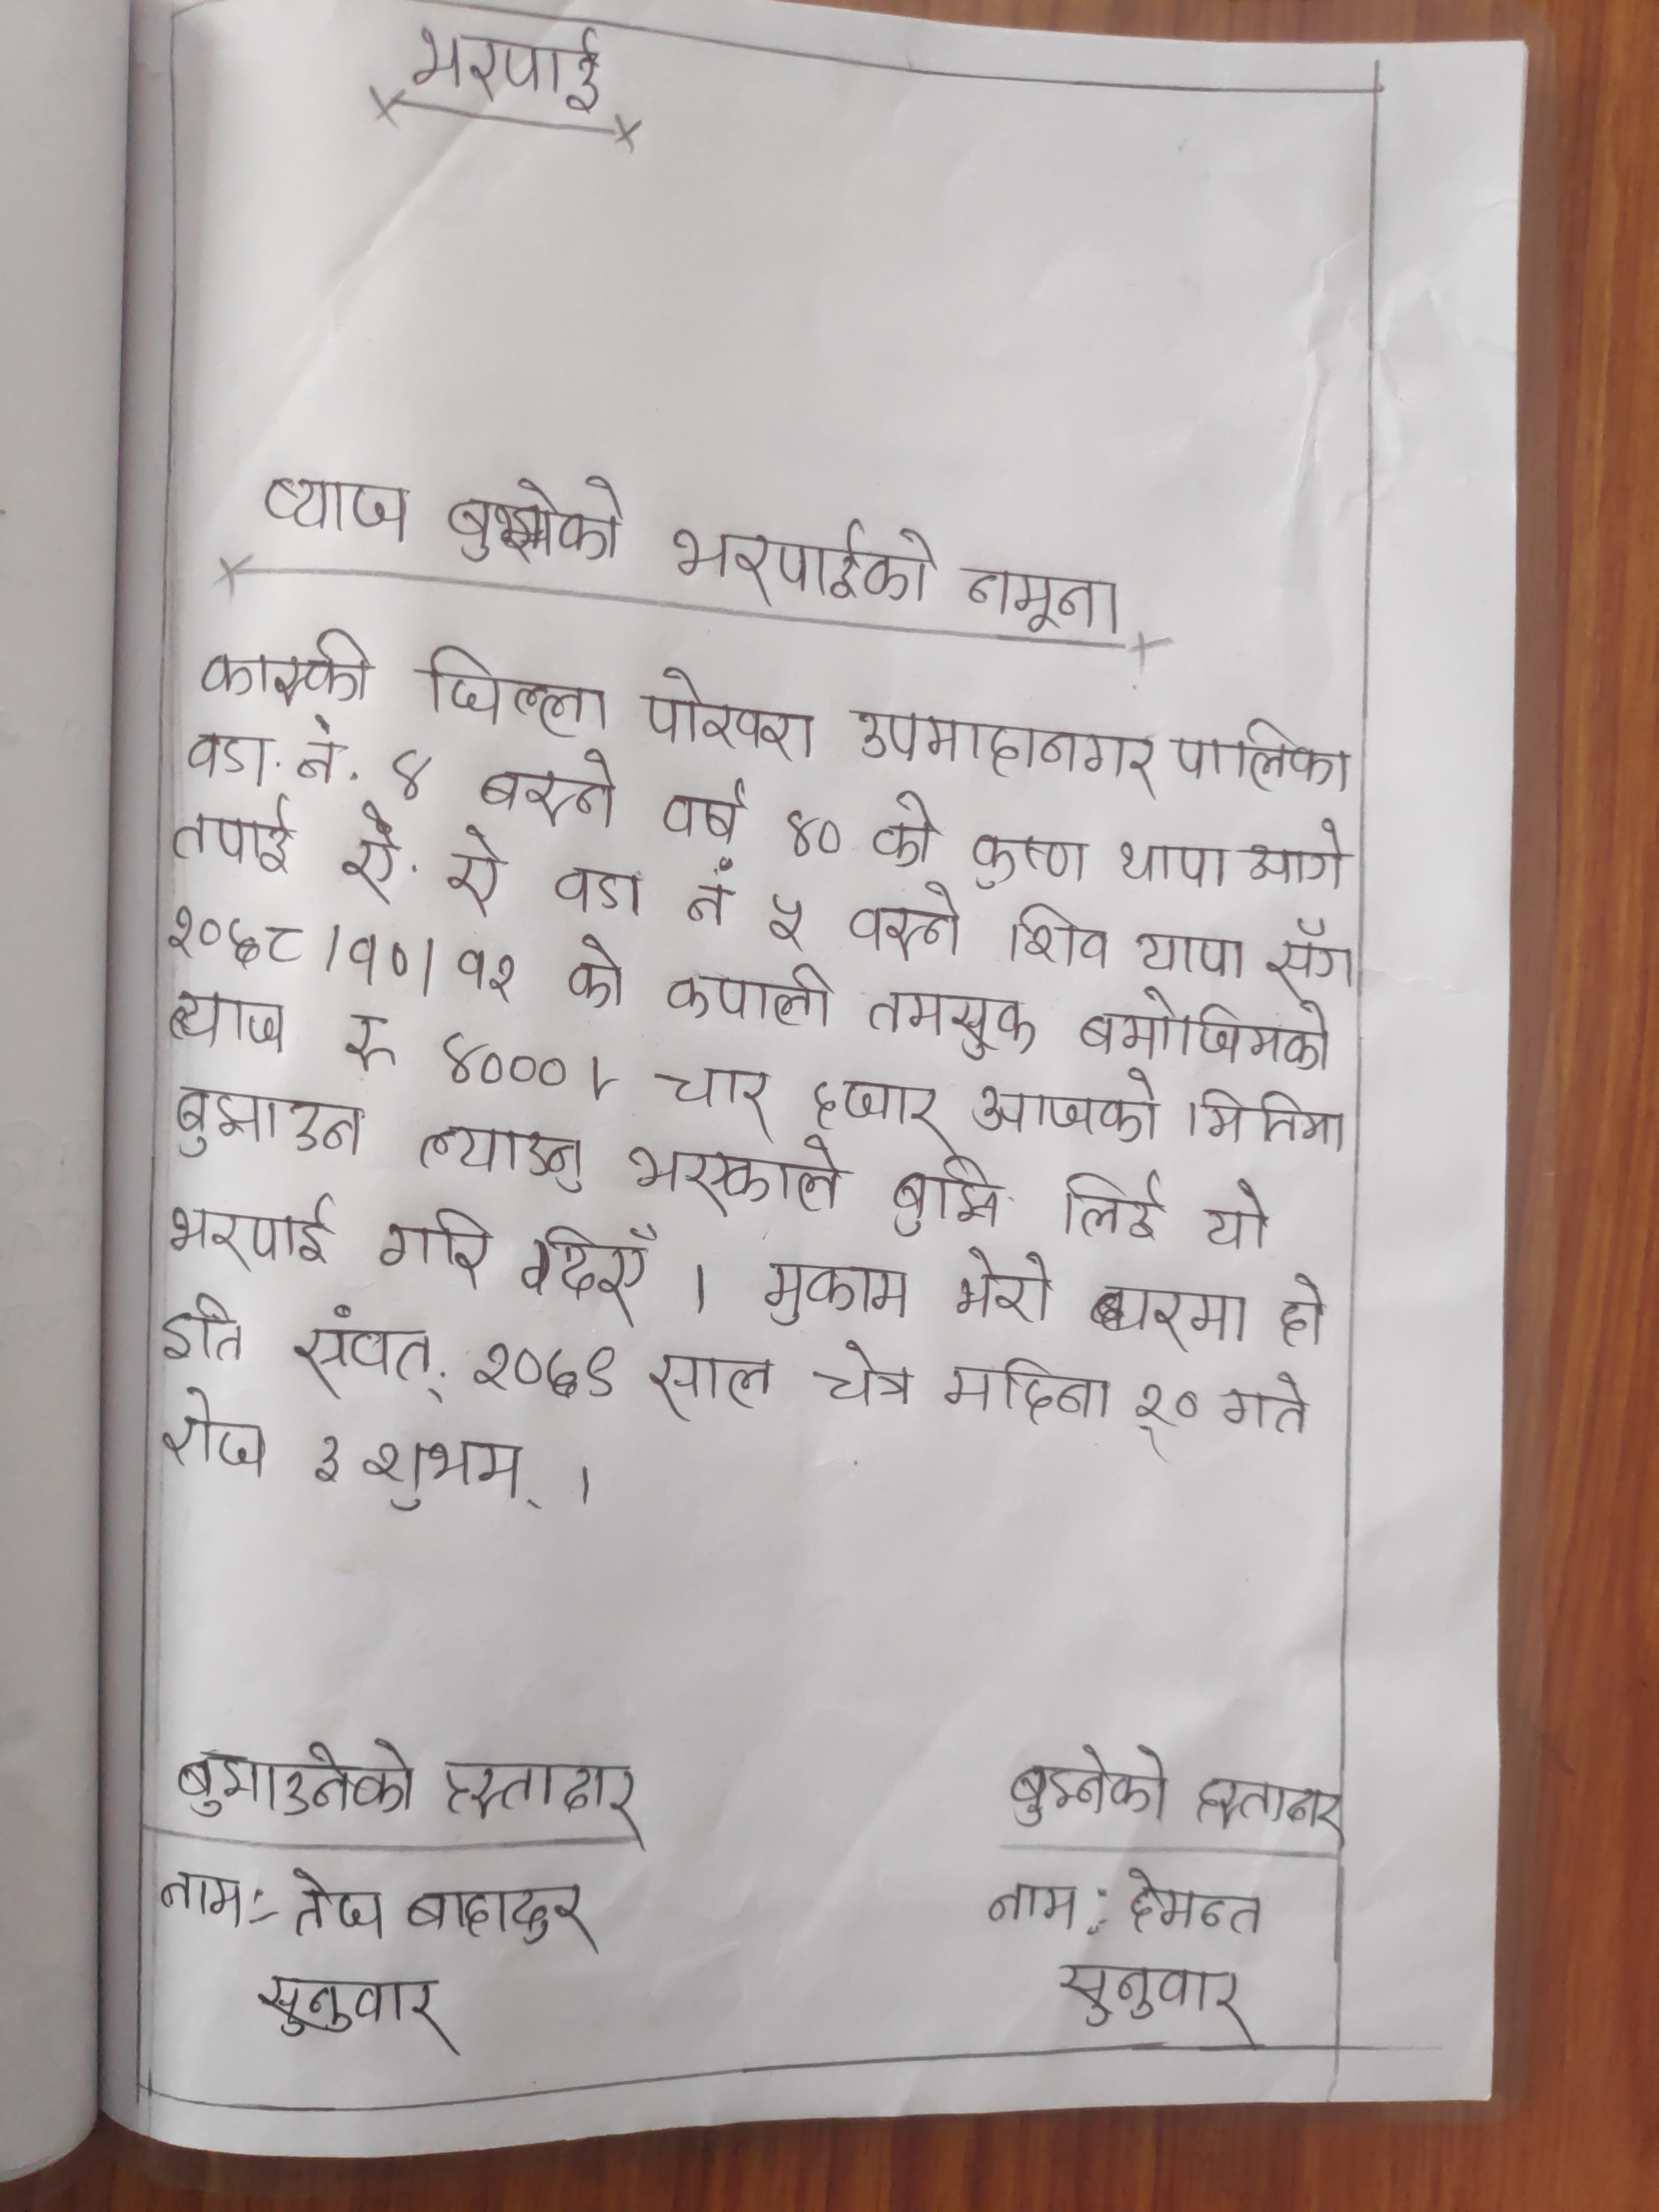text: (162, 907, 525, 998), (854, 702, 1162, 798), (662, 519, 936, 610), (1077, 981, 1333, 1071), (169, 1737, 416, 1824), (331, 803, 512, 920), (636, 664, 824, 773), (258, 1959, 453, 2062), (404, 23, 610, 117), (415, 643, 620, 737), (441, 475, 626, 577), (626, 1129, 849, 1212), (1053, 1954, 1265, 2038), (157, 1082, 371, 1163), (967, 1066, 1169, 1150), (406, 1113, 592, 1200), (361, 1433, 549, 1519), (1166, 714, 1358, 798), (293, 1303, 443, 1407), (861, 977, 1040, 1064), (192, 627, 371, 712), (1004, 1742, 1173, 1831), (164, 1190, 342, 1271), (441, 1759, 633, 1832), (939, 1350, 1115, 1428), (659, 954, 833, 1029), (260, 470, 415, 552), (1115, 1862, 1276, 1940), (1087, 1271, 1249, 1348), (477, 747, 622, 833), (1178, 1082, 1351, 1151), (760, 1251, 913, 1329), (965, 566, 1131, 637), (401, 1888, 599, 1947), (547, 1211, 652, 1322), (153, 1388, 274, 1484), (471, 1334, 626, 1406), (164, 796, 298, 878), (366, 1209, 497, 1291), (945, 1237, 1061, 1327), (882, 1151, 1004, 1235), (652, 1061, 786, 1136), (648, 1346, 784, 1420), (436, 1029, 573, 1101), (162, 995, 296, 1068), (1239, 812, 1349, 900), (803, 1073, 950, 1137), (843, 883, 971, 956), (289, 1860, 392, 1940), (957, 831, 1089, 892), (809, 1336, 918, 1409), (1004, 900, 1115, 972), (159, 1291, 246, 1381), (1192, 1177, 1288, 1258), (1061, 1172, 1162, 1247), (1115, 833, 1236, 895), (1129, 921, 1248, 982), (657, 779, 749, 855), (545, 866, 655, 927), (1272, 916, 1361, 991), (157, 1860, 244, 1933), (775, 808, 870, 874), (1222, 1372, 1310, 1439), (871, 787, 943, 869), (565, 934, 640, 1010), (183, 725, 270, 787), (985, 1878, 1089, 1928), (1274, 1270, 1335, 1353), (335, 1000, 403, 1075), (1129, 1374, 1202, 1432), (760, 892, 817, 951), (308, 1421, 350, 1501), (681, 881, 735, 941), (390, 747, 437, 806), (296, 732, 345, 784)
